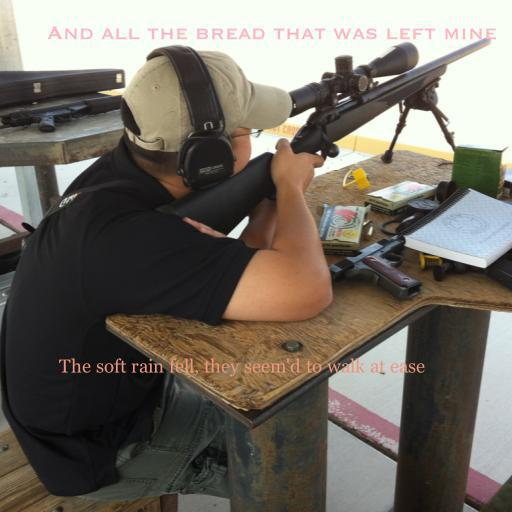Copperplate: (47, 26, 497, 40)
Georgia: (59, 358, 425, 377)
